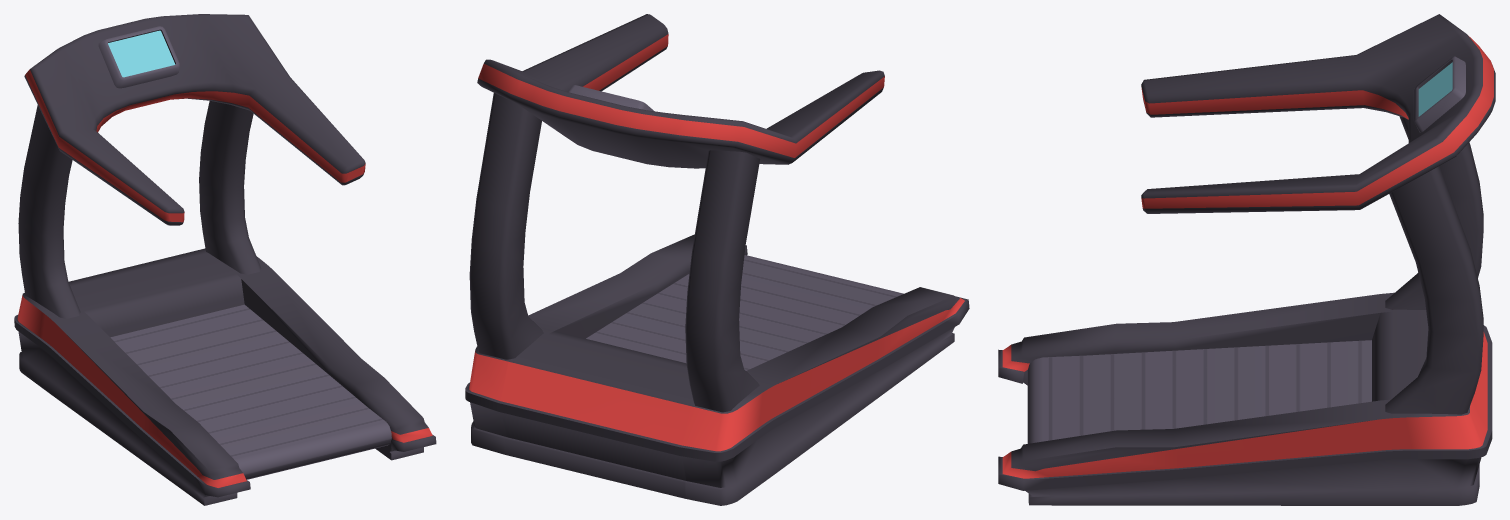
Rendered from Treadmill_v01.fbx.
3 renders of one model, left to right at view 1: azimuth 30°, elevation 25°; view 2: azimuth 150°, elevation 25°; view 3: azimuth 270°, elevation 25°, orthographic. The views are drawn at different scales.
Visible parts, largest first — view 1: Treadmill_v01; view 2: Treadmill_v01; view 3: Treadmill_v01.
Part boxes in pixels (bbox=[...]): Treadmill_v01: bbox=[14, 14, 436, 505]; Treadmill_v01: bbox=[465, 14, 969, 505]; Treadmill_v01: bbox=[998, 14, 1495, 505].
Bounding box in the file's own units: 0.8767 × 1.14 × 1.38.
Materials: 2 (2 with a texture image).
